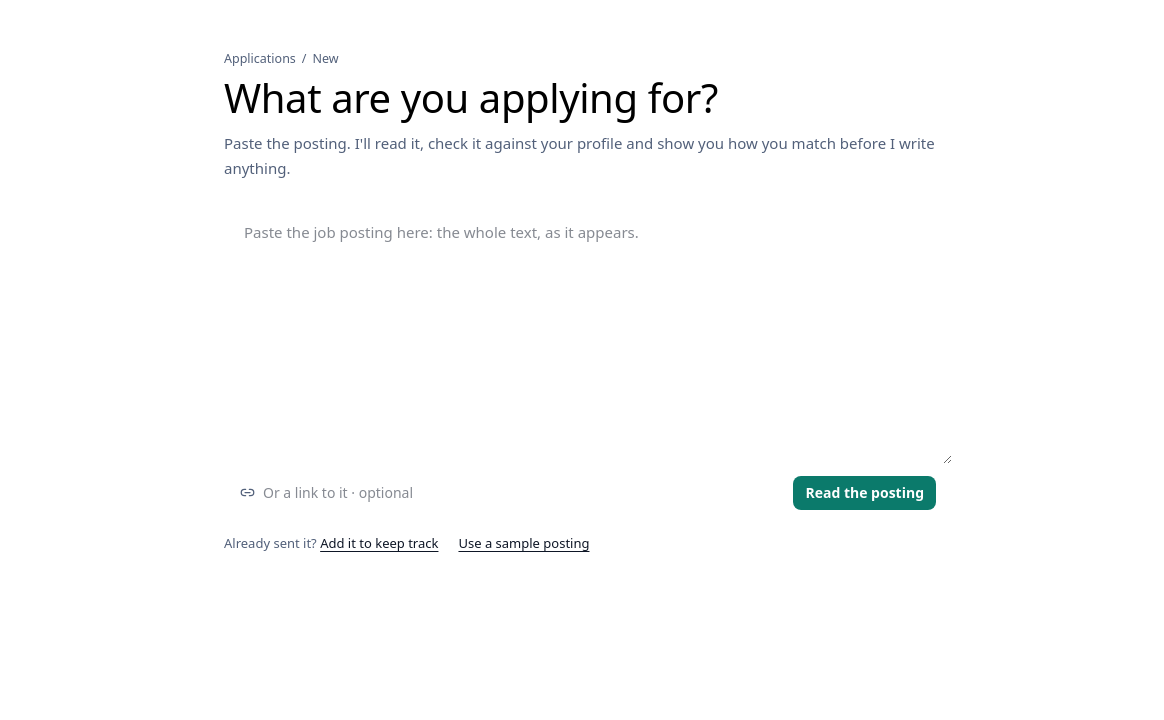
Test: the reading step (E7-2) › offers Retry and a way back with the text intact when it fails
The width and height of the screenshot is (1164, 720).
Type "Ledgerly is hiring." into the text box labelled "job posting" at x=588, y=334, box [224, 204, 952, 464]
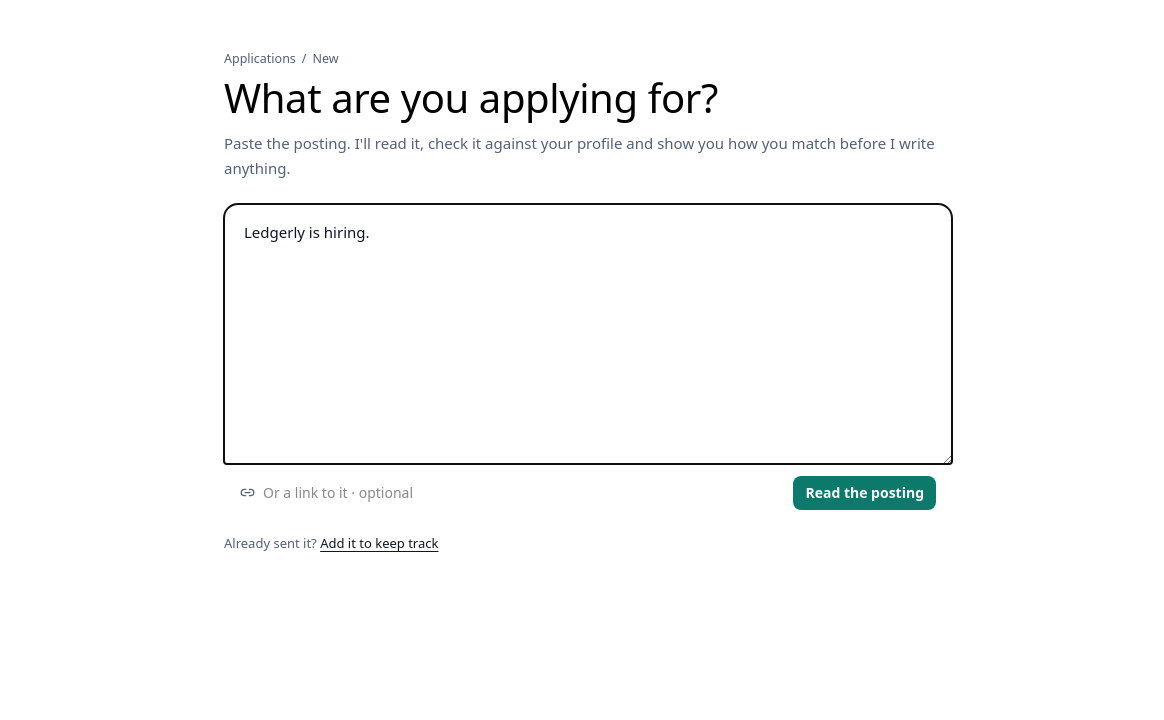
Click the button "Read the posting" at x=865, y=493, box [793, 476, 936, 510]
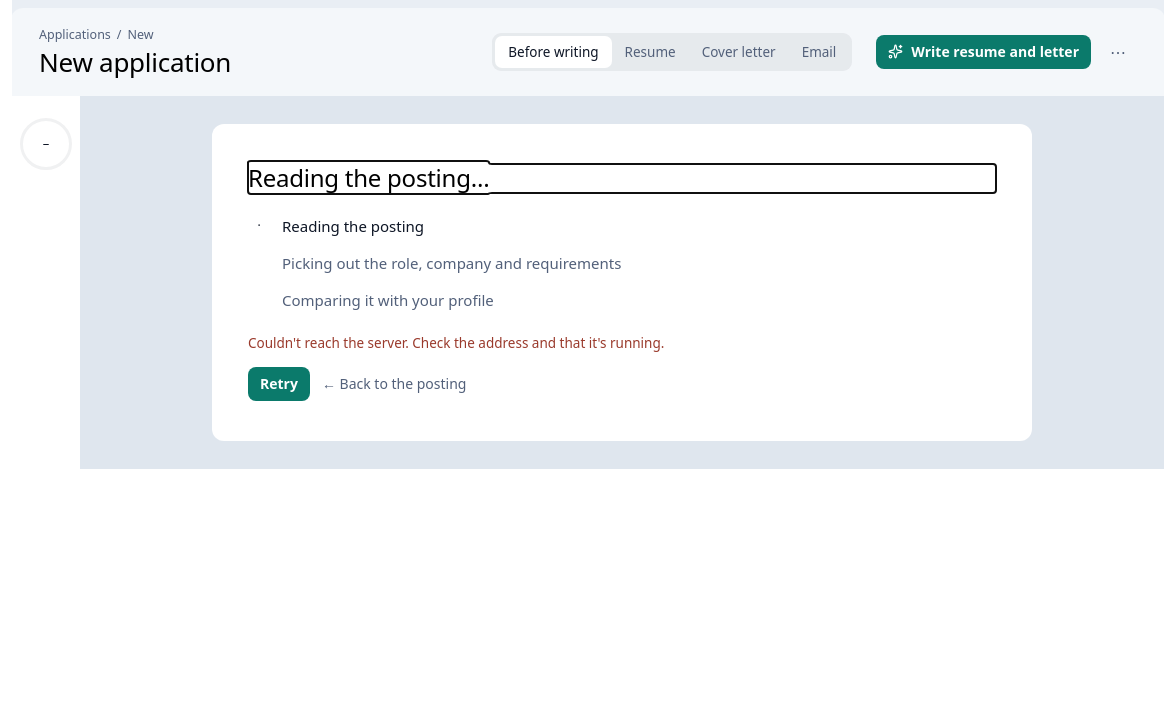
Now the message shows "Couldn't reach the server.", box [248, 334, 664, 352]
Now the button "Retry" is shown, box [248, 367, 310, 401]
Click the button "← Back to the posting" at x=394, y=384, box [322, 367, 466, 401]
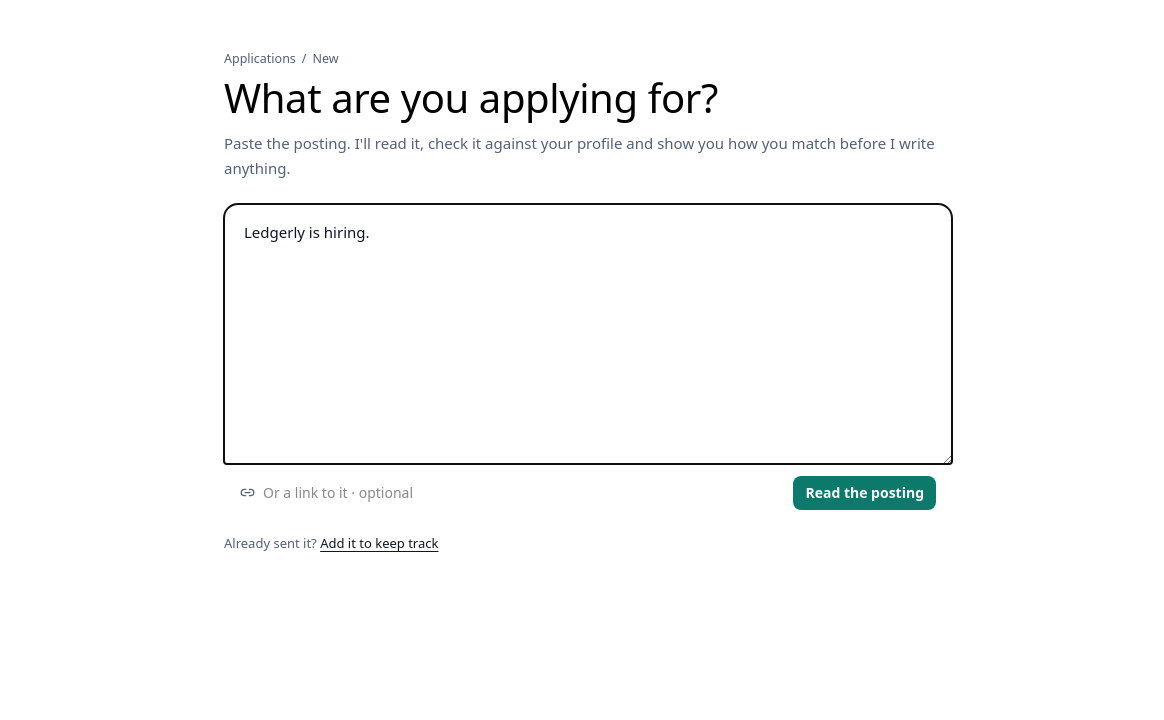
Now the text box named "job posting" holds "Ledgerly is hiring.", box [224, 204, 952, 464]
